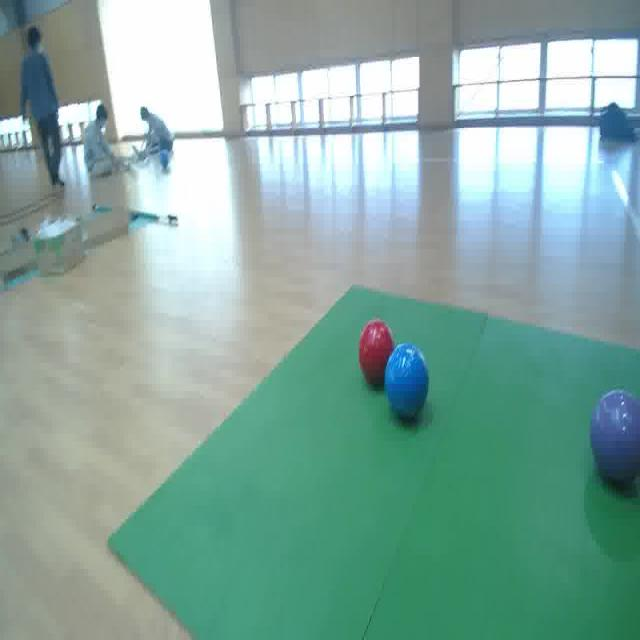blue_ball: (386, 342, 429, 420)
purple_ball: (592, 388, 640, 486)
red_ball: (360, 319, 394, 386)
